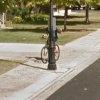Bicycle: (35, 22, 63, 73)
